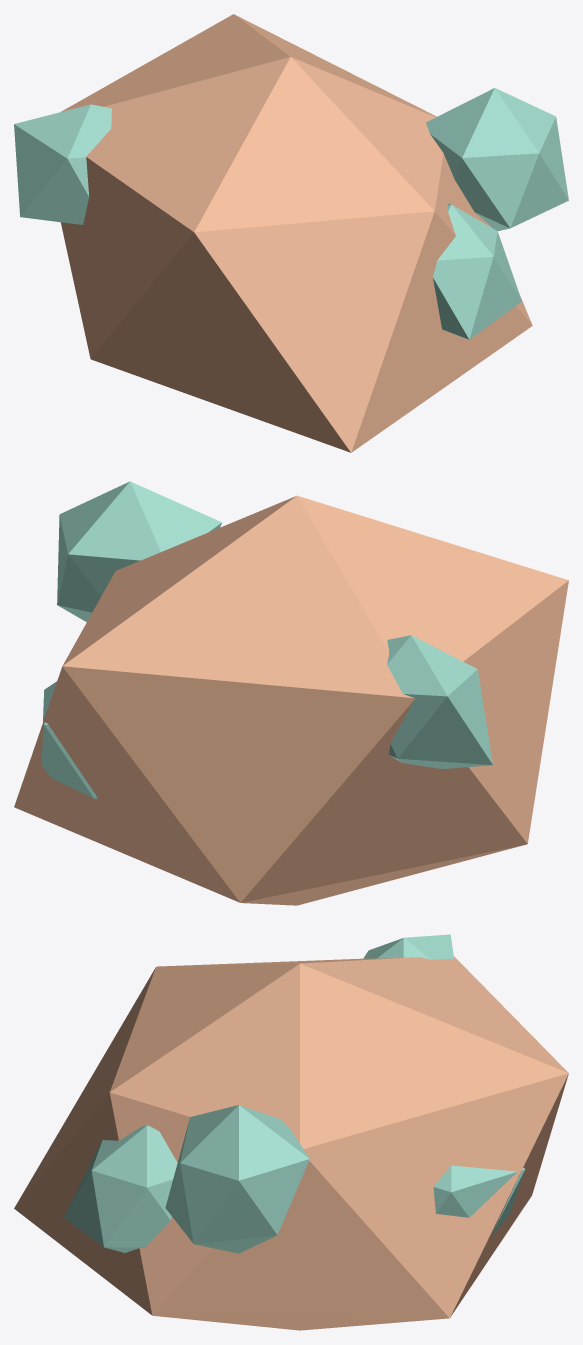
The model's file is raw_copper_held.gltf.
3 views of the same model, one above another, from view 1: azimuth 30°, elevation 25°; view 2: azimuth 150°, elevation 25°; view 3: azimuth 270°, elevation 25° (orthographic). The views are drawn at different scales.
Visible parts, largest first — view 1: ore_raw_copper_held; view 2: ore_raw_copper_held; view 3: ore_raw_copper_held.
Boxes of the visible parts, box(x1,y1,x2,y2) form: ore_raw_copper_held: box(14, 14, 568, 452); ore_raw_copper_held: box(14, 481, 568, 905); ore_raw_copper_held: box(14, 934, 568, 1330).
Size of the model in its own units: 0.11 by 0.082 by 0.1124.
